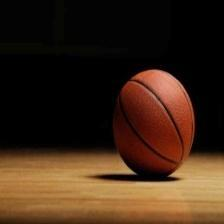Sports-Ball: (113, 63, 198, 185)
